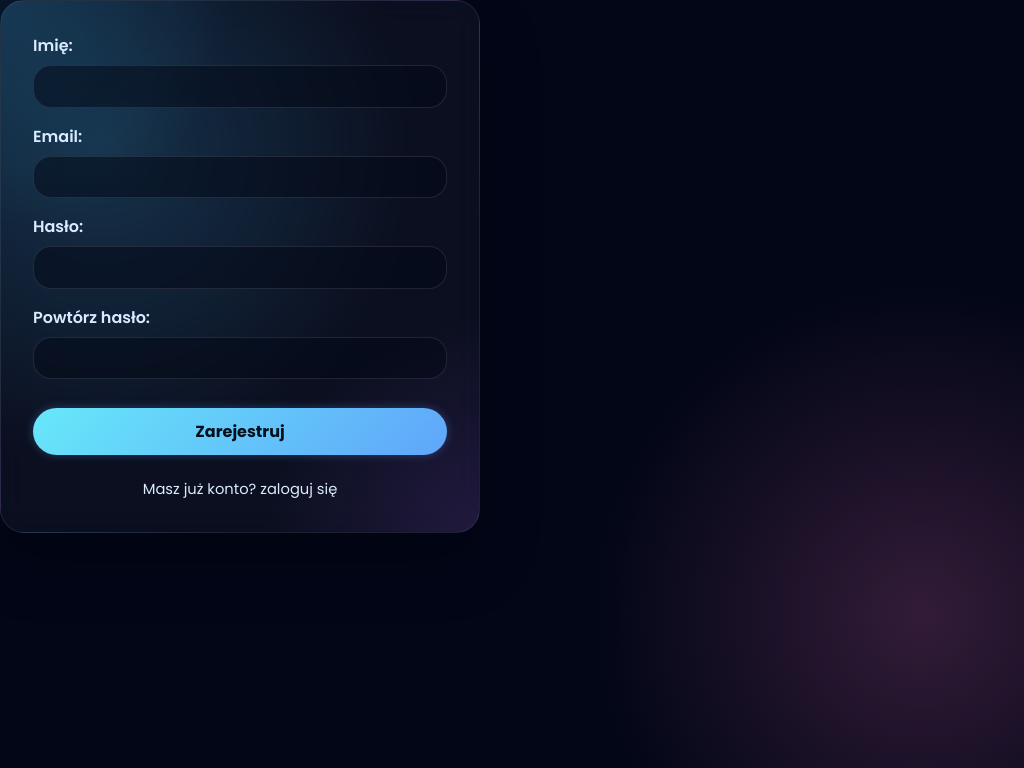
RegistryForm › shows validation error for mismatched passwords
Type "Jan" into the field labelled "Imię:".
click(240, 86); type("Jan")  # box [33,65,447,108]
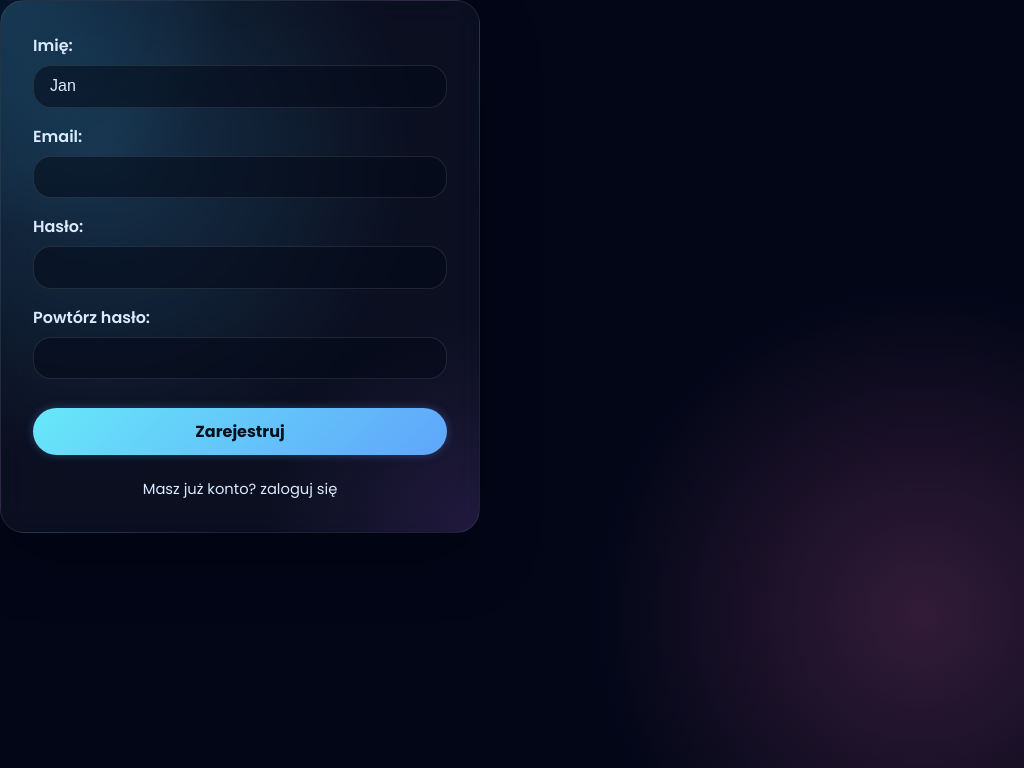
Type "jan@example.com" into the field labelled "Email:".
click(240, 177); type("jan@example.com")  # box [33,156,447,198]
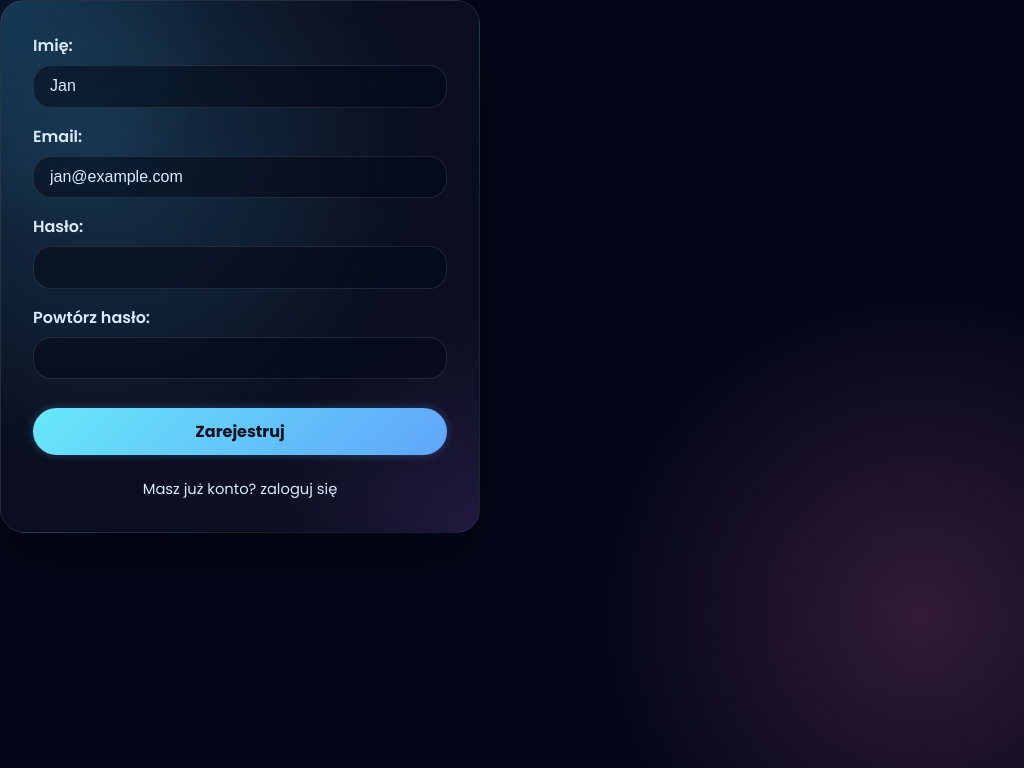
Type "haslo123" into the password field labelled "Hasło:".
click(240, 268); type("haslo123")  # box [33,246,447,289]
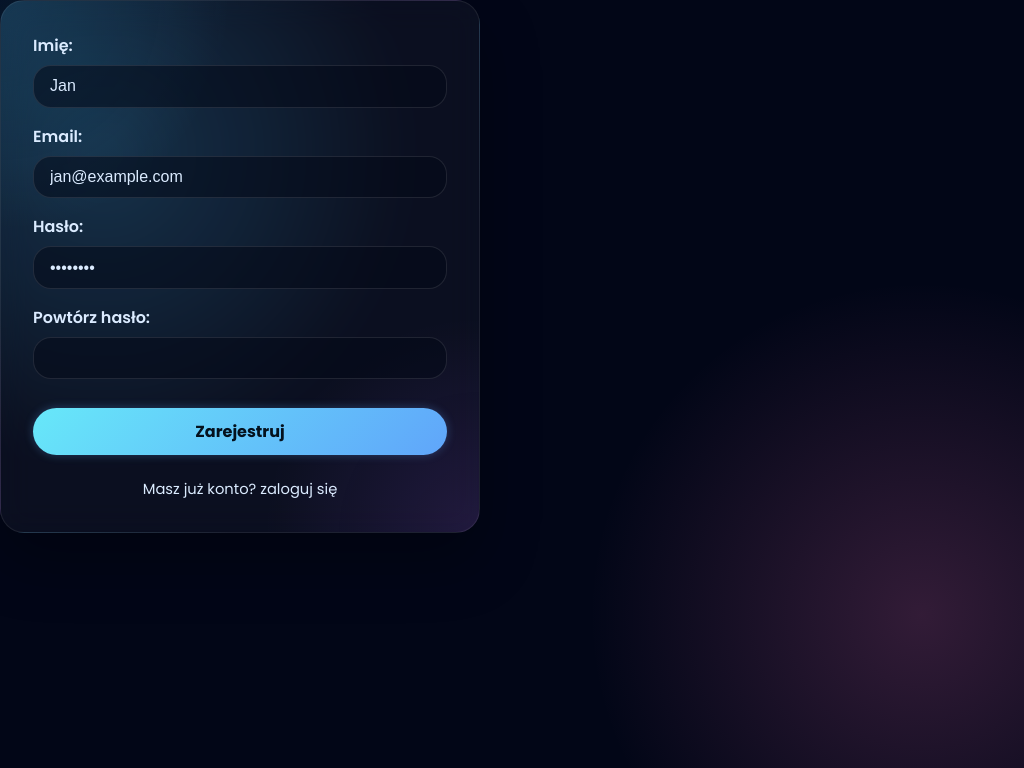
Type "inneinne" into the password field labelled "Powtórz hasło:".
click(240, 358); type("inneinne")  # box [33,337,447,379]
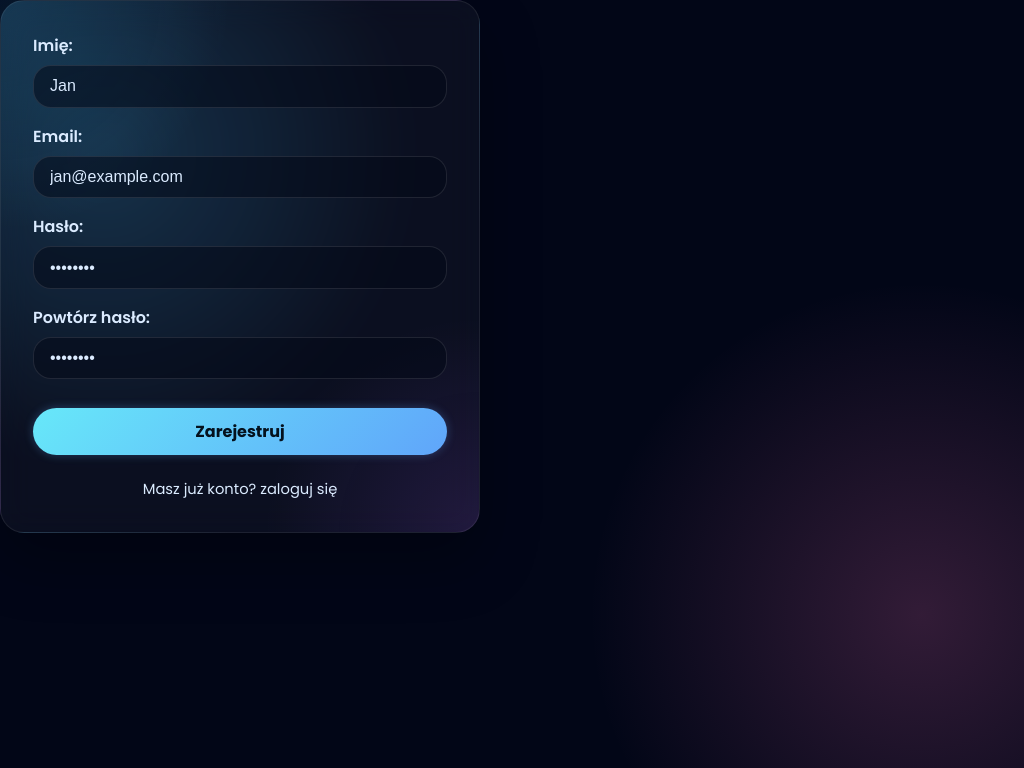
Click the button "Zarejestruj".
click(240, 432)  # box [33,408,447,455]
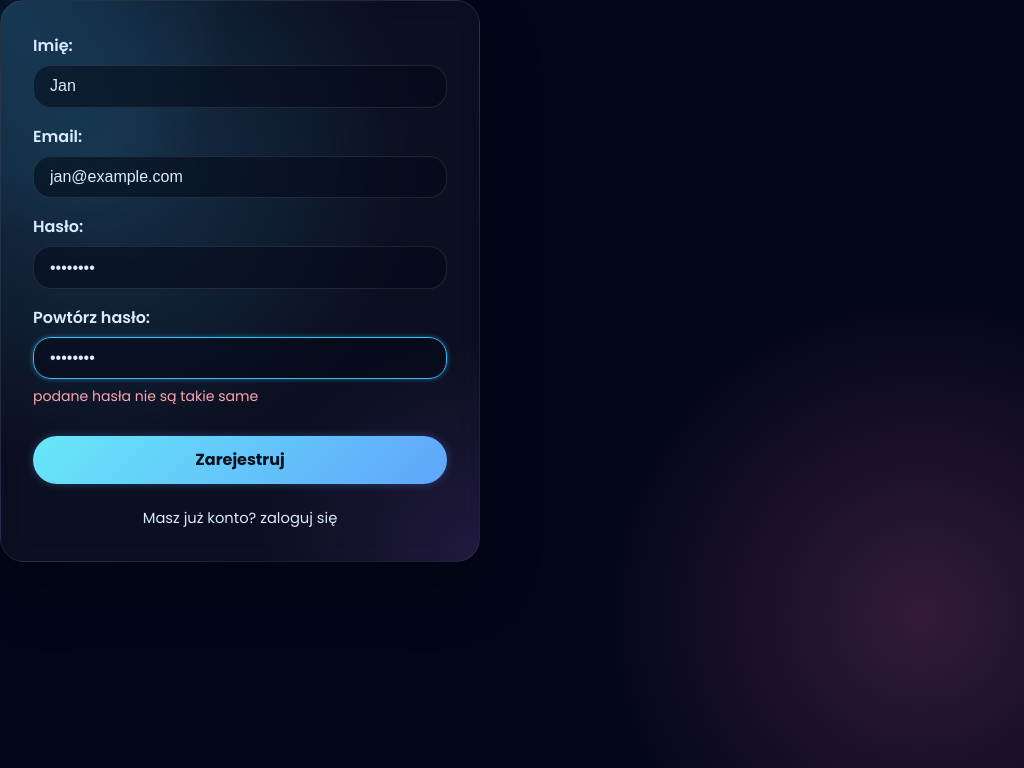
Result: the text "podane hasła nie są takie same" is shown at [33,386,258,406]
